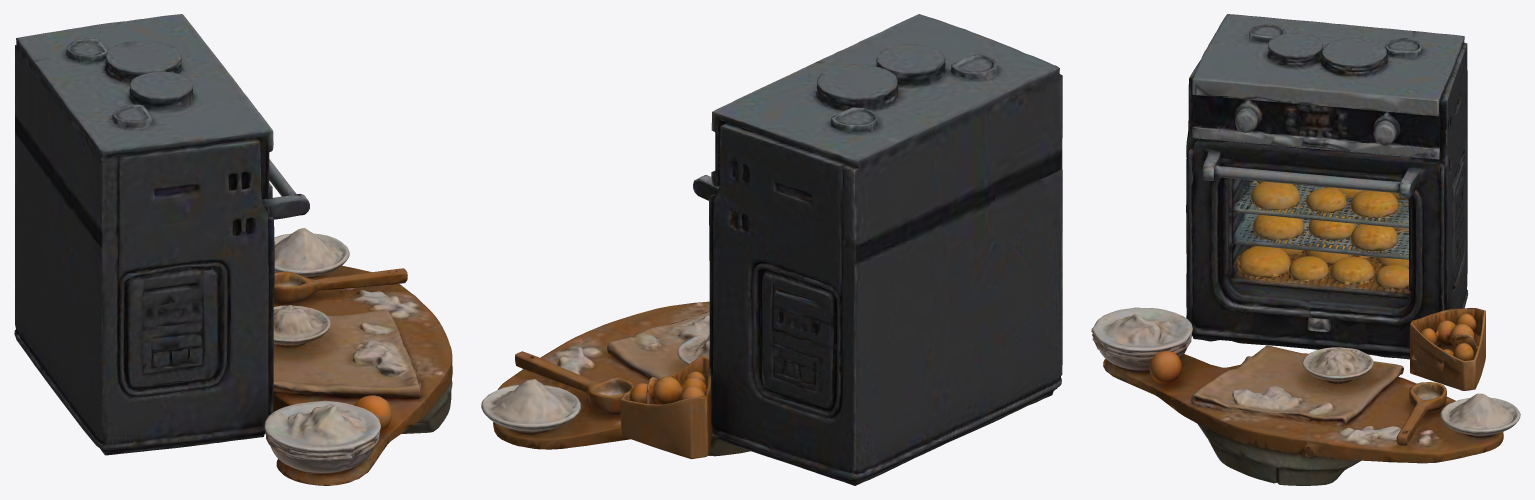
The model's file is horno.glb.
3 renders of one model, left to right at view 1: azimuth 30°, elevation 25°; view 2: azimuth 150°, elevation 25°; view 3: azimuth 270°, elevation 25°, orthographic. The views are drawn at different scales.
Visible parts, largest first — view 1: tripo_node_764409fd-cbce-4d36-8c94-dd83bc39e6bc; view 2: tripo_node_764409fd-cbce-4d36-8c94-dd83bc39e6bc; view 3: tripo_node_764409fd-cbce-4d36-8c94-dd83bc39e6bc.
Boxes of the visible parts, bbox=[...] form: tripo_node_764409fd-cbce-4d36-8c94-dd83bc39e6bc: bbox=[14, 14, 452, 485]; tripo_node_764409fd-cbce-4d36-8c94-dd83bc39e6bc: bbox=[481, 14, 1062, 485]; tripo_node_764409fd-cbce-4d36-8c94-dd83bc39e6bc: bbox=[1091, 14, 1520, 485].
Size of the model in its own units: 0.9297 by 0.8127 by 0.9794.
1 material, 1 textured.
